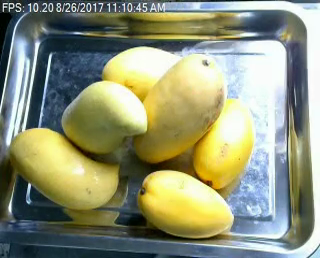Mango: (135, 52, 225, 164), (9, 126, 122, 212), (61, 76, 147, 155), (137, 170, 236, 237), (193, 89, 256, 188), (101, 43, 180, 102)
